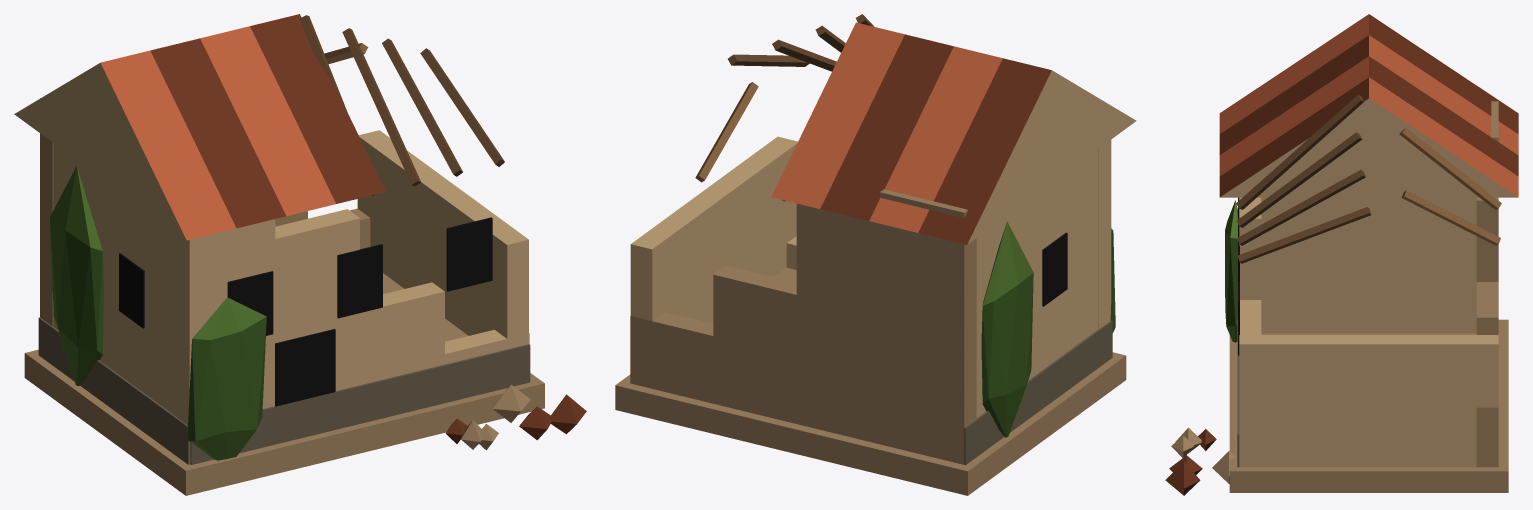
The model's file is house_ruin_med.glb.
The picture shows the model from 3 angles, left to right: view 1: azimuth 30°, elevation 25°; view 2: azimuth 150°, elevation 25°; view 3: azimuth 270°, elevation 25°; orthographic projection. The views are drawn at different scales.
Parts seen in each view (by area): view 1: house_ruin_med2; view 2: house_ruin_med2; view 3: house_ruin_med2.
Part boxes in pixels (box(x1,y1,x2,y2)): house_ruin_med2: box(14, 14, 586, 495); house_ruin_med2: box(615, 14, 1136, 495); house_ruin_med2: box(1165, 14, 1518, 495).
Size of the model in its own units: 3.81 by 3.7 by 3.54.
